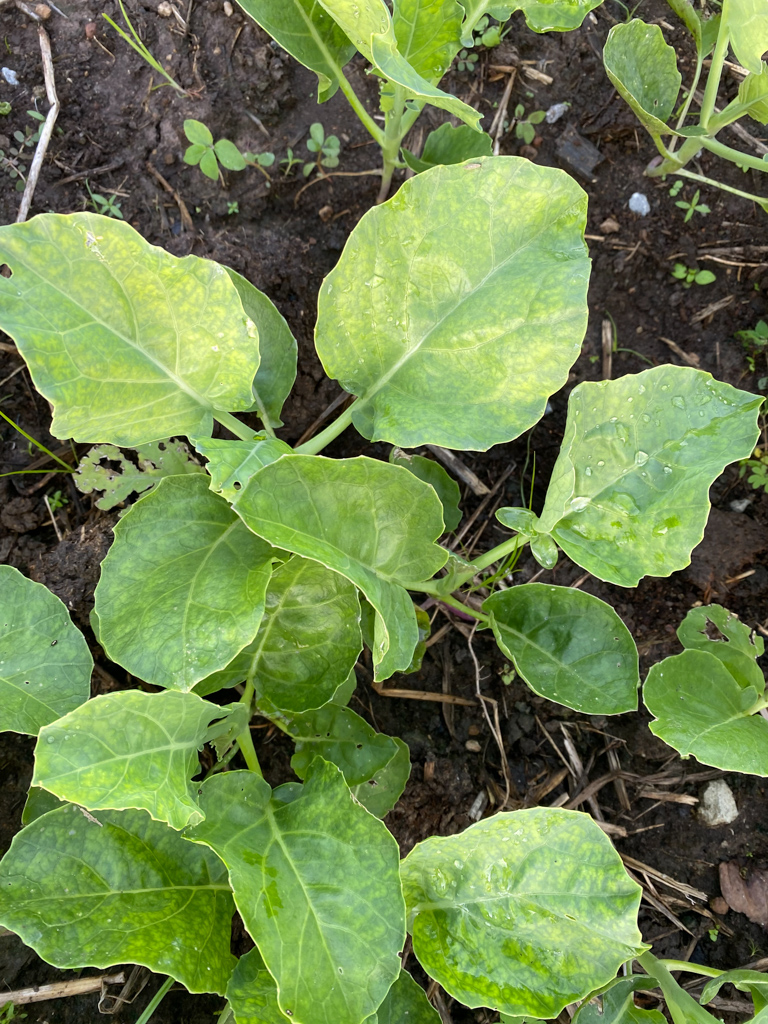Pepper yellow leaf: (54, 214, 259, 402)
